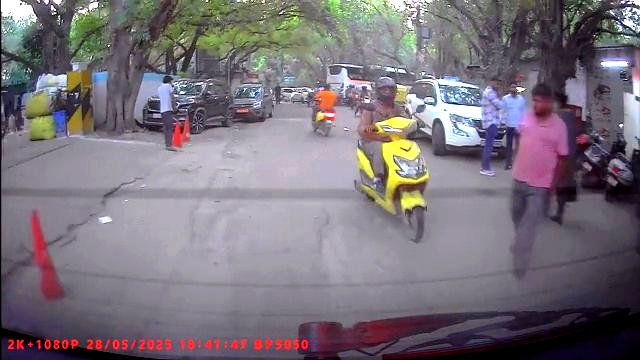motorcycle_with_helmet: (353, 75, 431, 243)
motorcycle_without_helmet: (312, 81, 338, 138)
